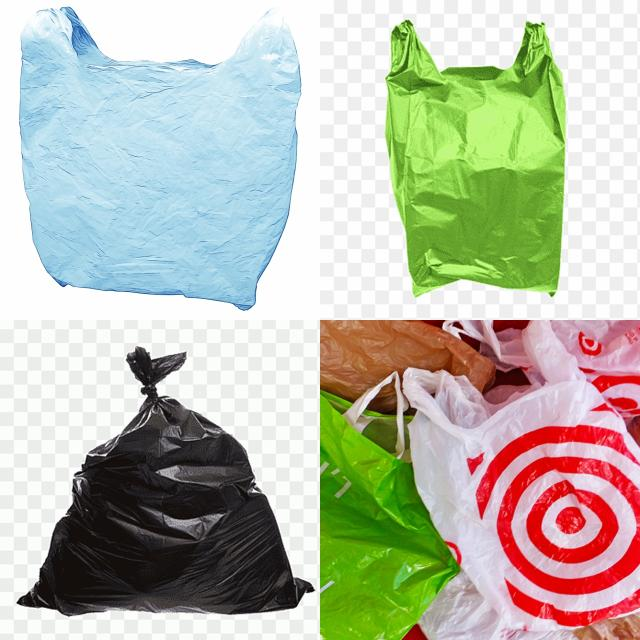Single-layer Plastic: (20, 8, 301, 310), (19, 348, 311, 615), (404, 321, 640, 631), (385, 20, 565, 295), (320, 392, 459, 639), (320, 320, 495, 401)
